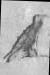G35: (3, 0, 47, 74)
